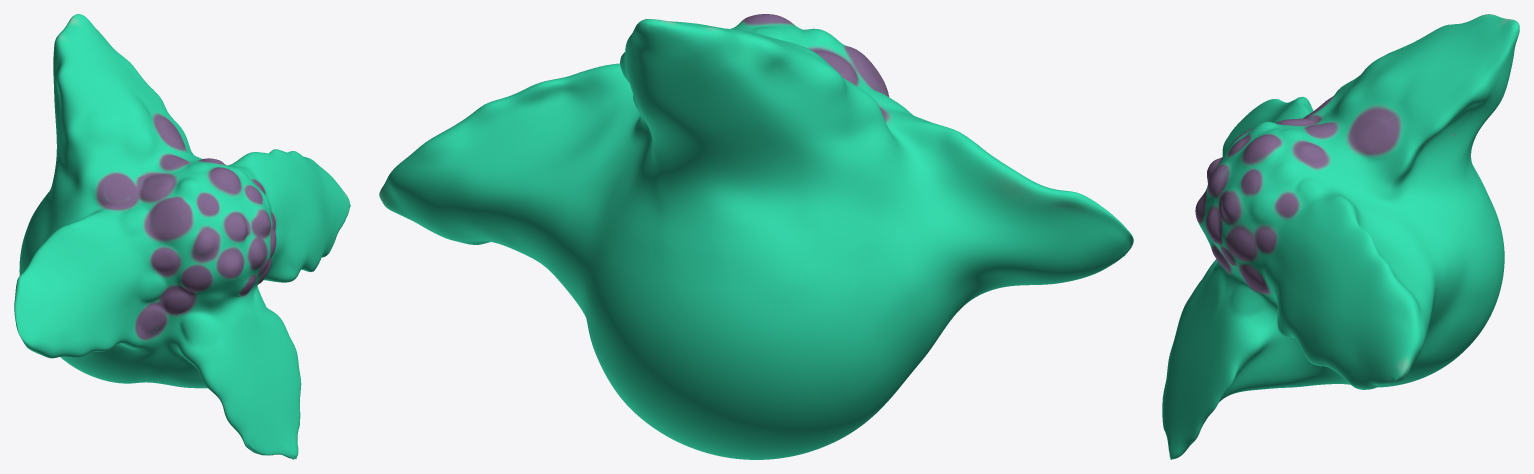
The model's file is fourpetal.gltf.
3 renders of one model, left to right at view 1: azimuth 30°, elevation 25°; view 2: azimuth 150°, elevation 25°; view 3: azimuth 270°, elevation 25°, orthographic. The views are drawn at different scales.
Visible parts, largest first — view 1: Retopo_Sphere; view 2: Retopo_Sphere; view 3: Retopo_Sphere.
Part boxes in pixels (bbox=[...]): Retopo_Sphere: bbox=[14, 14, 350, 459]; Retopo_Sphere: bbox=[379, 14, 1133, 459]; Retopo_Sphere: bbox=[1162, 14, 1519, 459].
Bounding box in the file's own units: 0.7579 × 0.6293 × 0.5097.
Materials: 1 (1 with a texture image).
